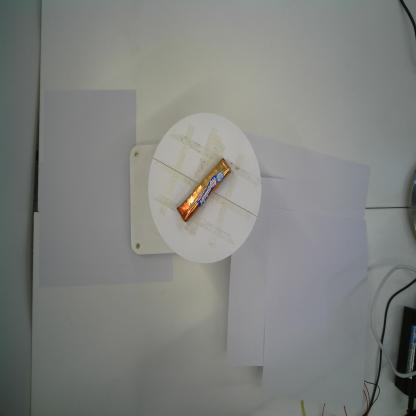Candy: (176, 157, 232, 223)
